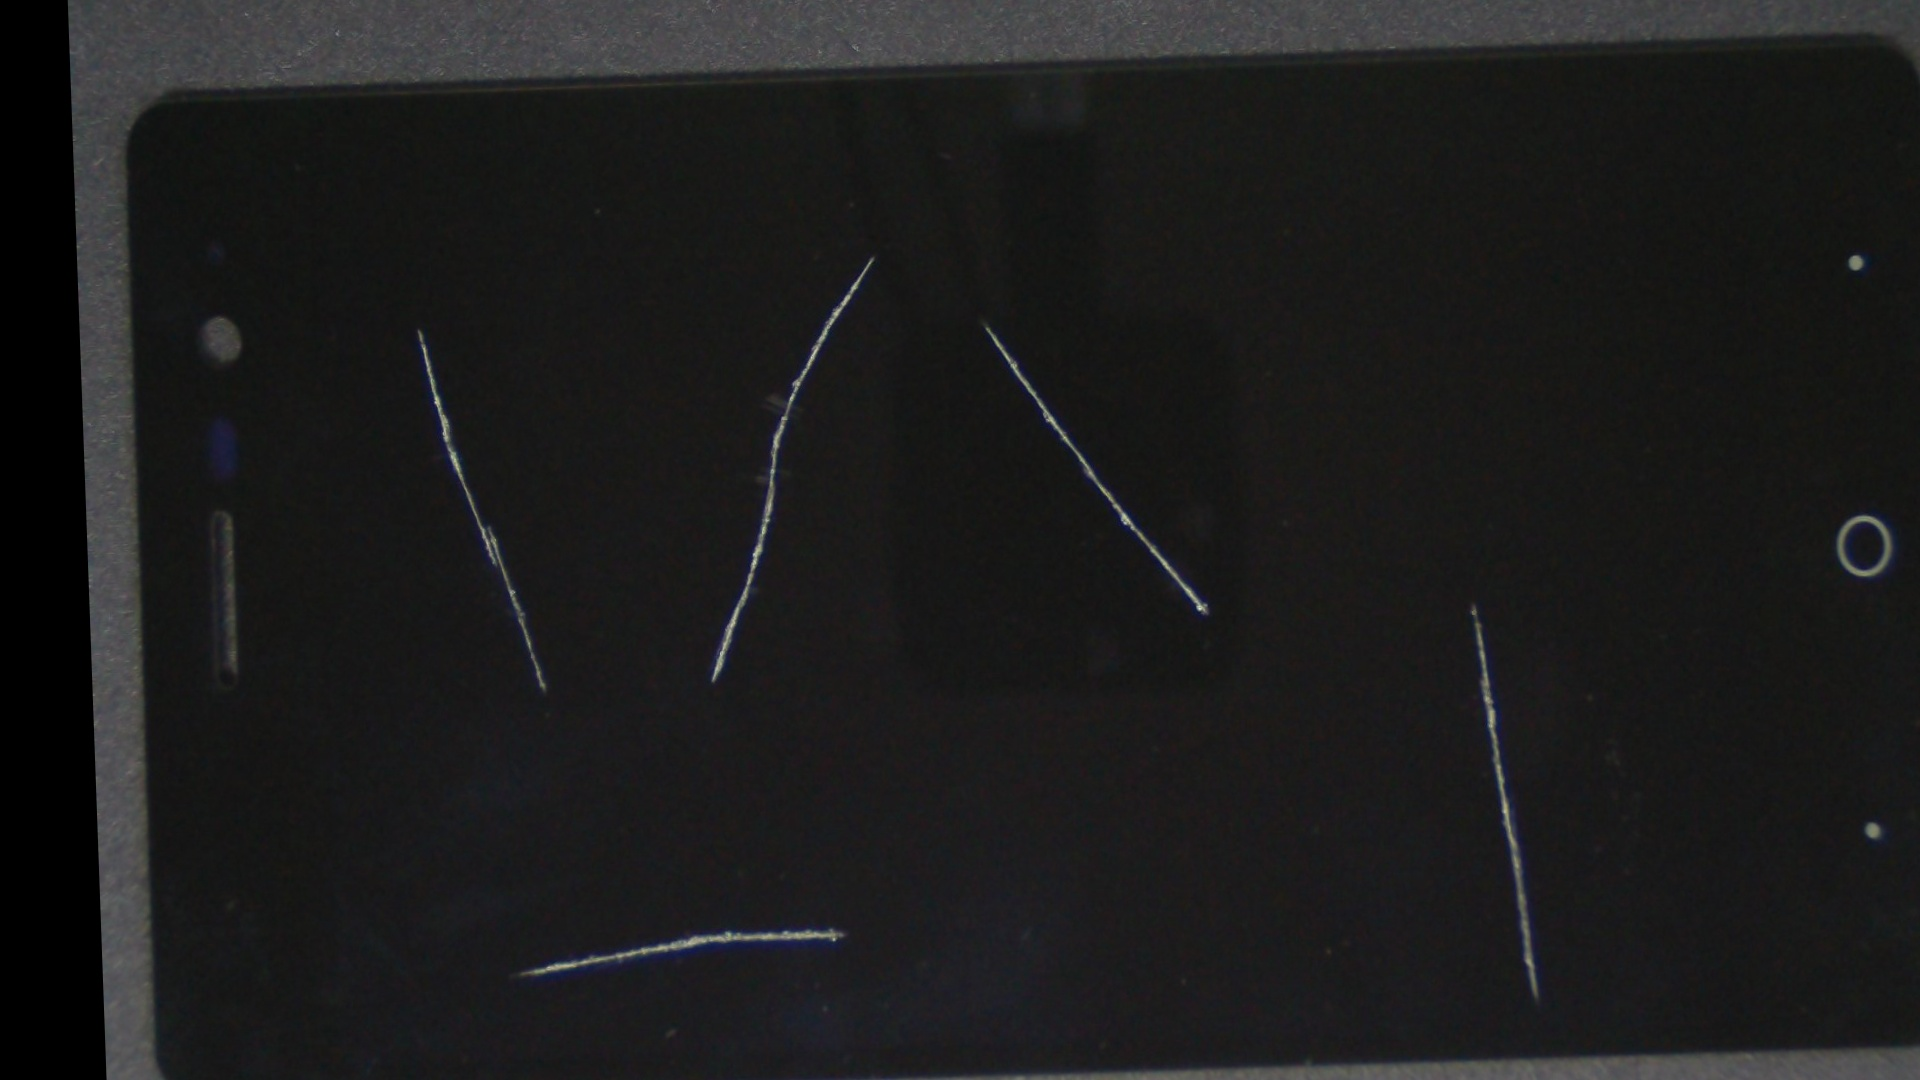oil: (770, 233, 1920, 973), (396, 421, 1044, 1080), (525, 107, 1441, 534), (473, 74, 1270, 438), (243, 129, 591, 525)
